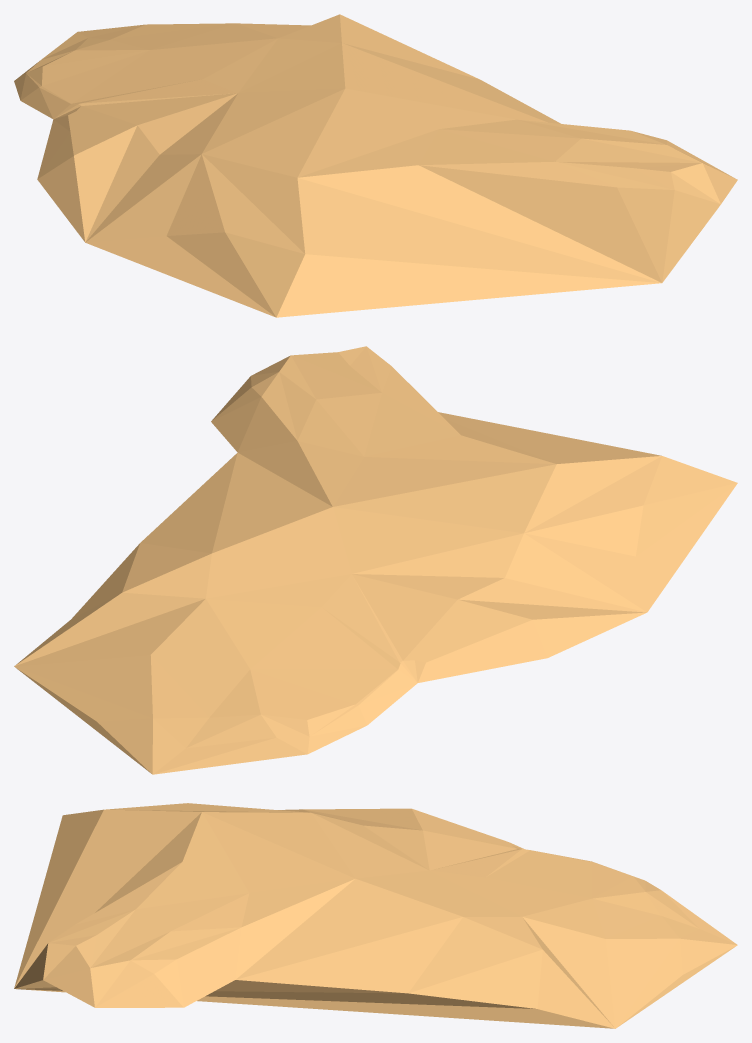
3 views of the same model, one above another, from view 1: azimuth 30°, elevation 25°; view 2: azimuth 150°, elevation 25°; view 3: azimuth 270°, elevation 25° (orthographic). The views are drawn at different scales.
Parts seen in each view (by area): view 1: group_825412341; view 2: group_825412341; view 3: group_825412341.
Boxes of the visible parts, x1=… form: group_825412341: x1=14, y1=14, x2=737, y2=317; group_825412341: x1=14, y1=346, x2=737, y2=774; group_825412341: x1=14, y1=803, x2=737, y2=1028.
Size of the model in its own units: 177 by 35.22 by 249.
